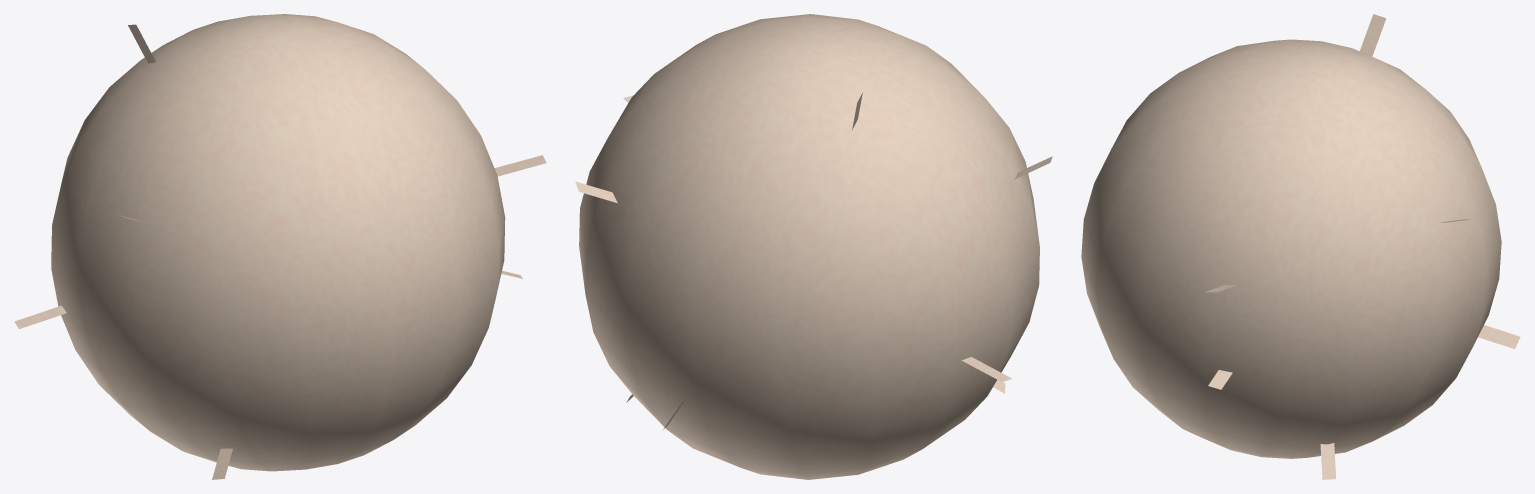
File: HeartPlantHead.fbx
3 renders of one model, left to right at view 1: azimuth 30°, elevation 25°; view 2: azimuth 150°, elevation 25°; view 3: azimuth 270°, elevation 25°, orthographic. The views are drawn at different scales.
Visible parts, largest first — view 1: PlantHeadNew_MESH; view 2: PlantHeadNew_MESH; view 3: PlantHeadNew_MESH.
Part boxes in pixels (x1,y1,x2,y2): PlantHeadNew_MESH: [14, 14, 546, 479]; PlantHeadNew_MESH: [575, 14, 1052, 479]; PlantHeadNew_MESH: [1081, 14, 1520, 479].
Bounding box in the file's own units: 51.01 × 44.81 × 46.68.
2 materials, 2 textured.
